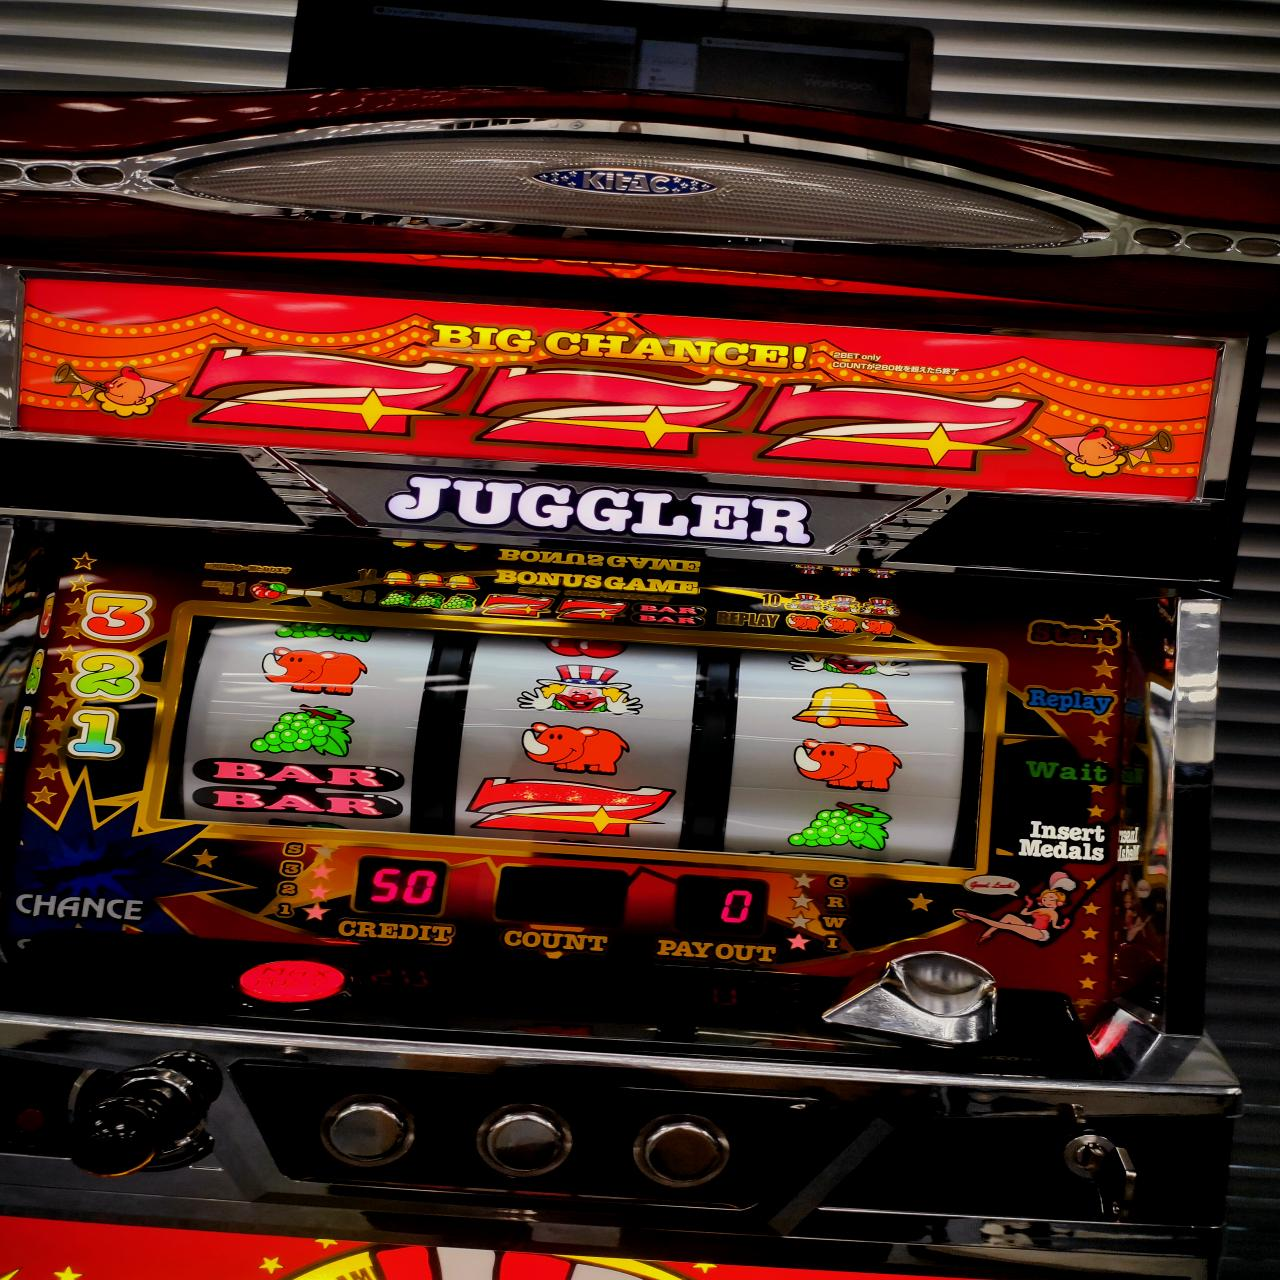7: (468, 776, 676, 840)
8: (517, 722, 639, 775), (792, 737, 906, 794), (259, 645, 373, 695)
Display: (171, 612, 978, 871)
bar: (195, 757, 401, 821)
bell: (787, 680, 911, 730)
cherry: (516, 662, 646, 717)
grape: (788, 801, 893, 853), (250, 703, 355, 754)
